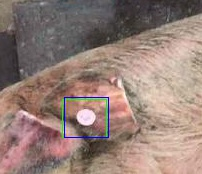text: (62, 99, 106, 137)
